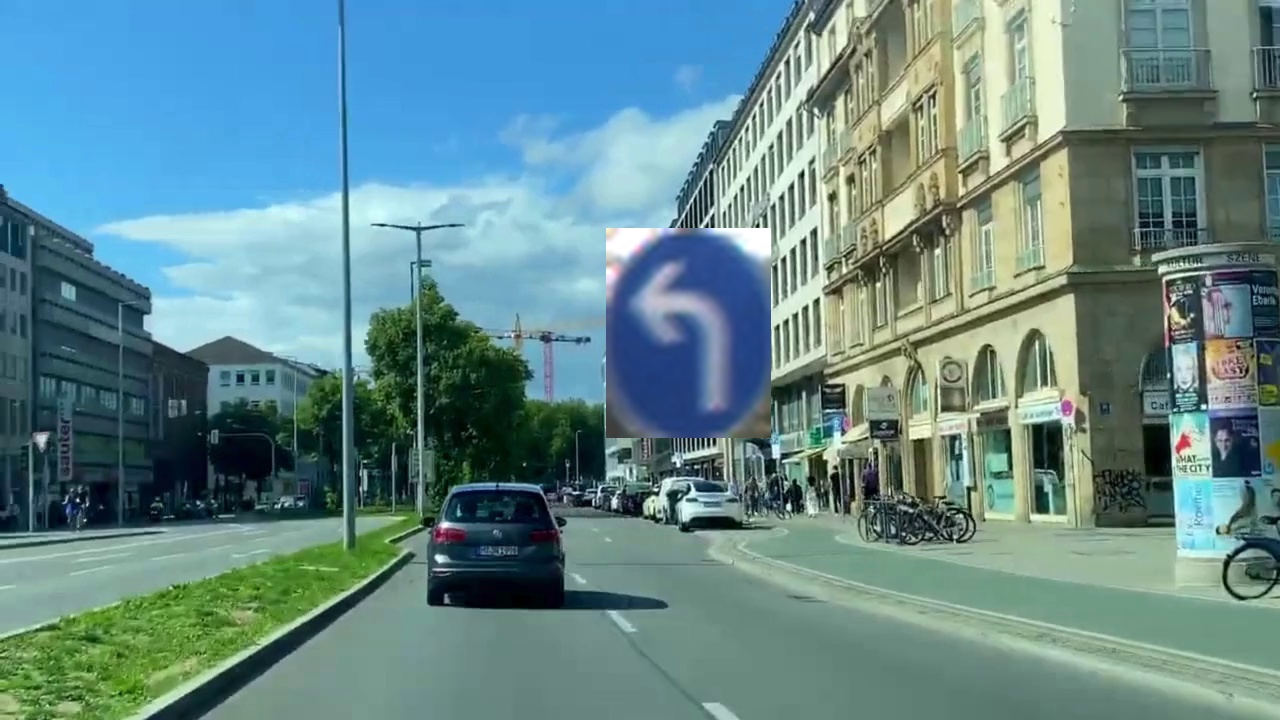Turn left: (606, 228, 771, 438)
